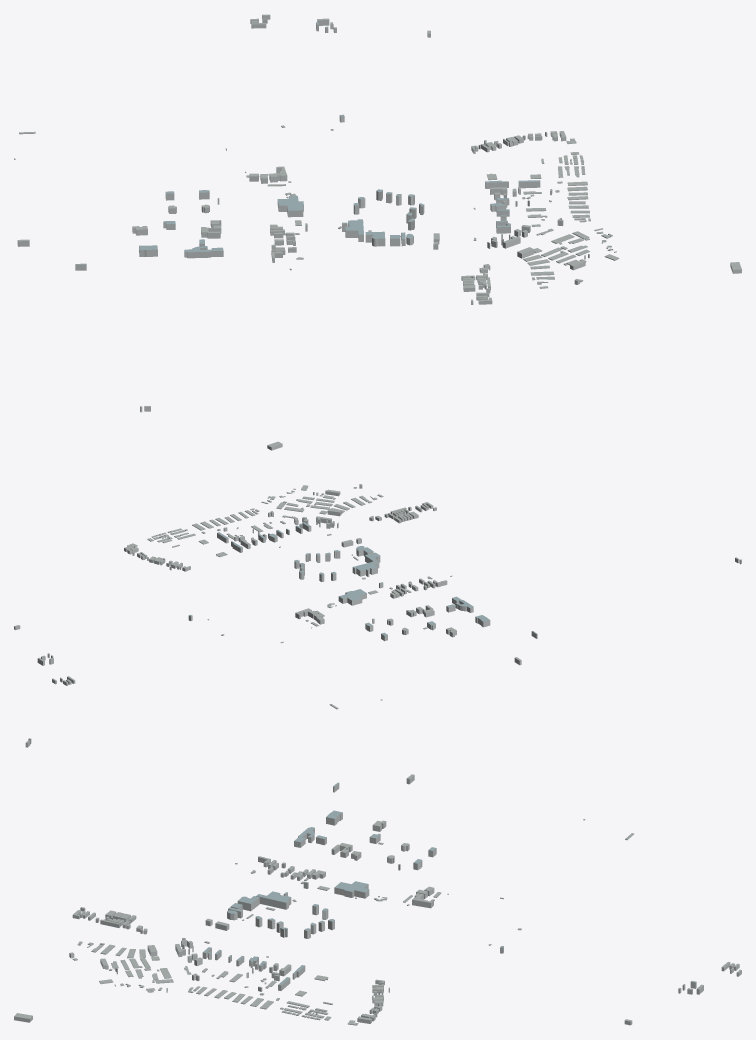
Rendered from far.glb.
3 renders of one model, top to bottom at view 1: azimuth 30°, elevation 25°; view 2: azimuth 150°, elevation 25°; view 3: azimuth 270°, elevation 25°, orthographic. The views are drawn at different scales.
Bounding box in the file's own units: 1933 × 28.75 × 2106.
